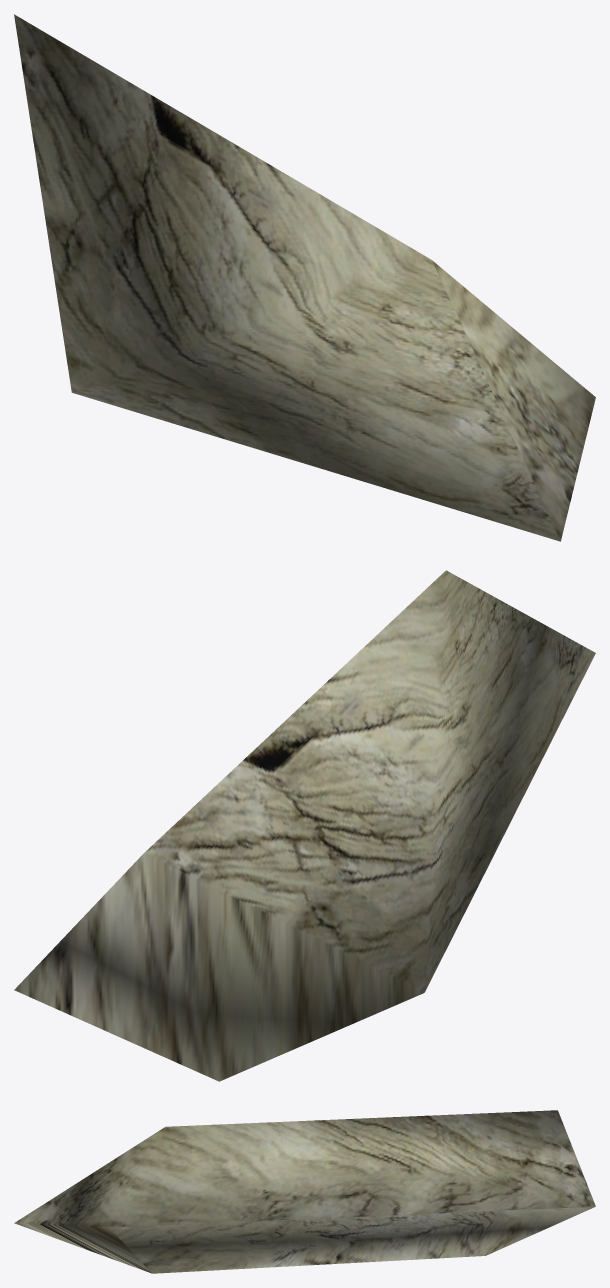
The model's file is shor_driftwood_massassi_sm_l2.fbx.
3 views of the same model, one above another, from view 1: azimuth 30°, elevation 25°; view 2: azimuth 150°, elevation 25°; view 3: azimuth 270°, elevation 25° (orthographic). The views are drawn at different scales.
Parts seen in each view (by area): view 1: mesh_node; view 2: mesh_node; view 3: mesh_node.
Part boxes in pixels (left/top/right/bottom): mesh_node: left=14, top=14, right=595, bottom=541; mesh_node: left=14, top=570, right=595, bottom=1081; mesh_node: left=14, top=1110, right=595, bottom=1273.
Size of the model in its own units: 0.4587 by 0.4164 by 1.49.
